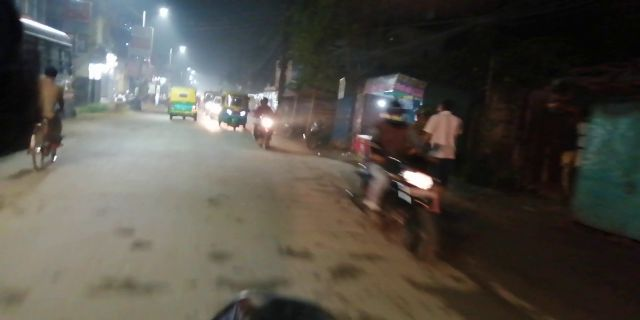Autorickshaw: (167, 81, 200, 121), (220, 92, 250, 129)
Motorbike: (348, 94, 448, 259)
